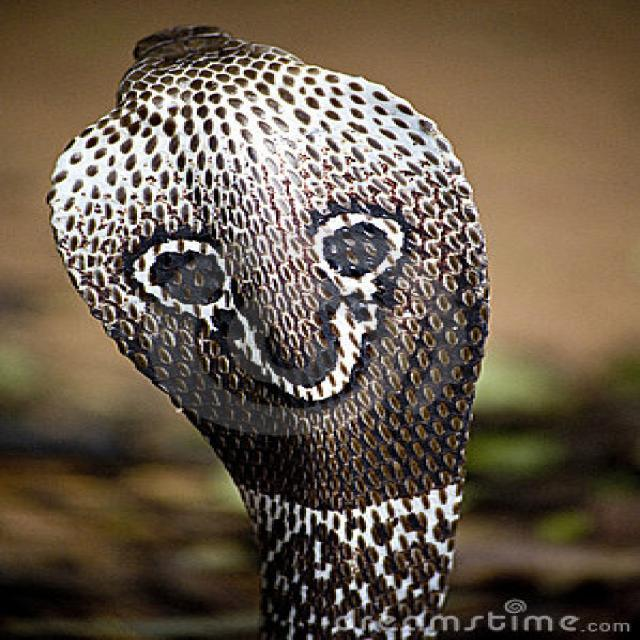Snake: (35, 18, 531, 640)
